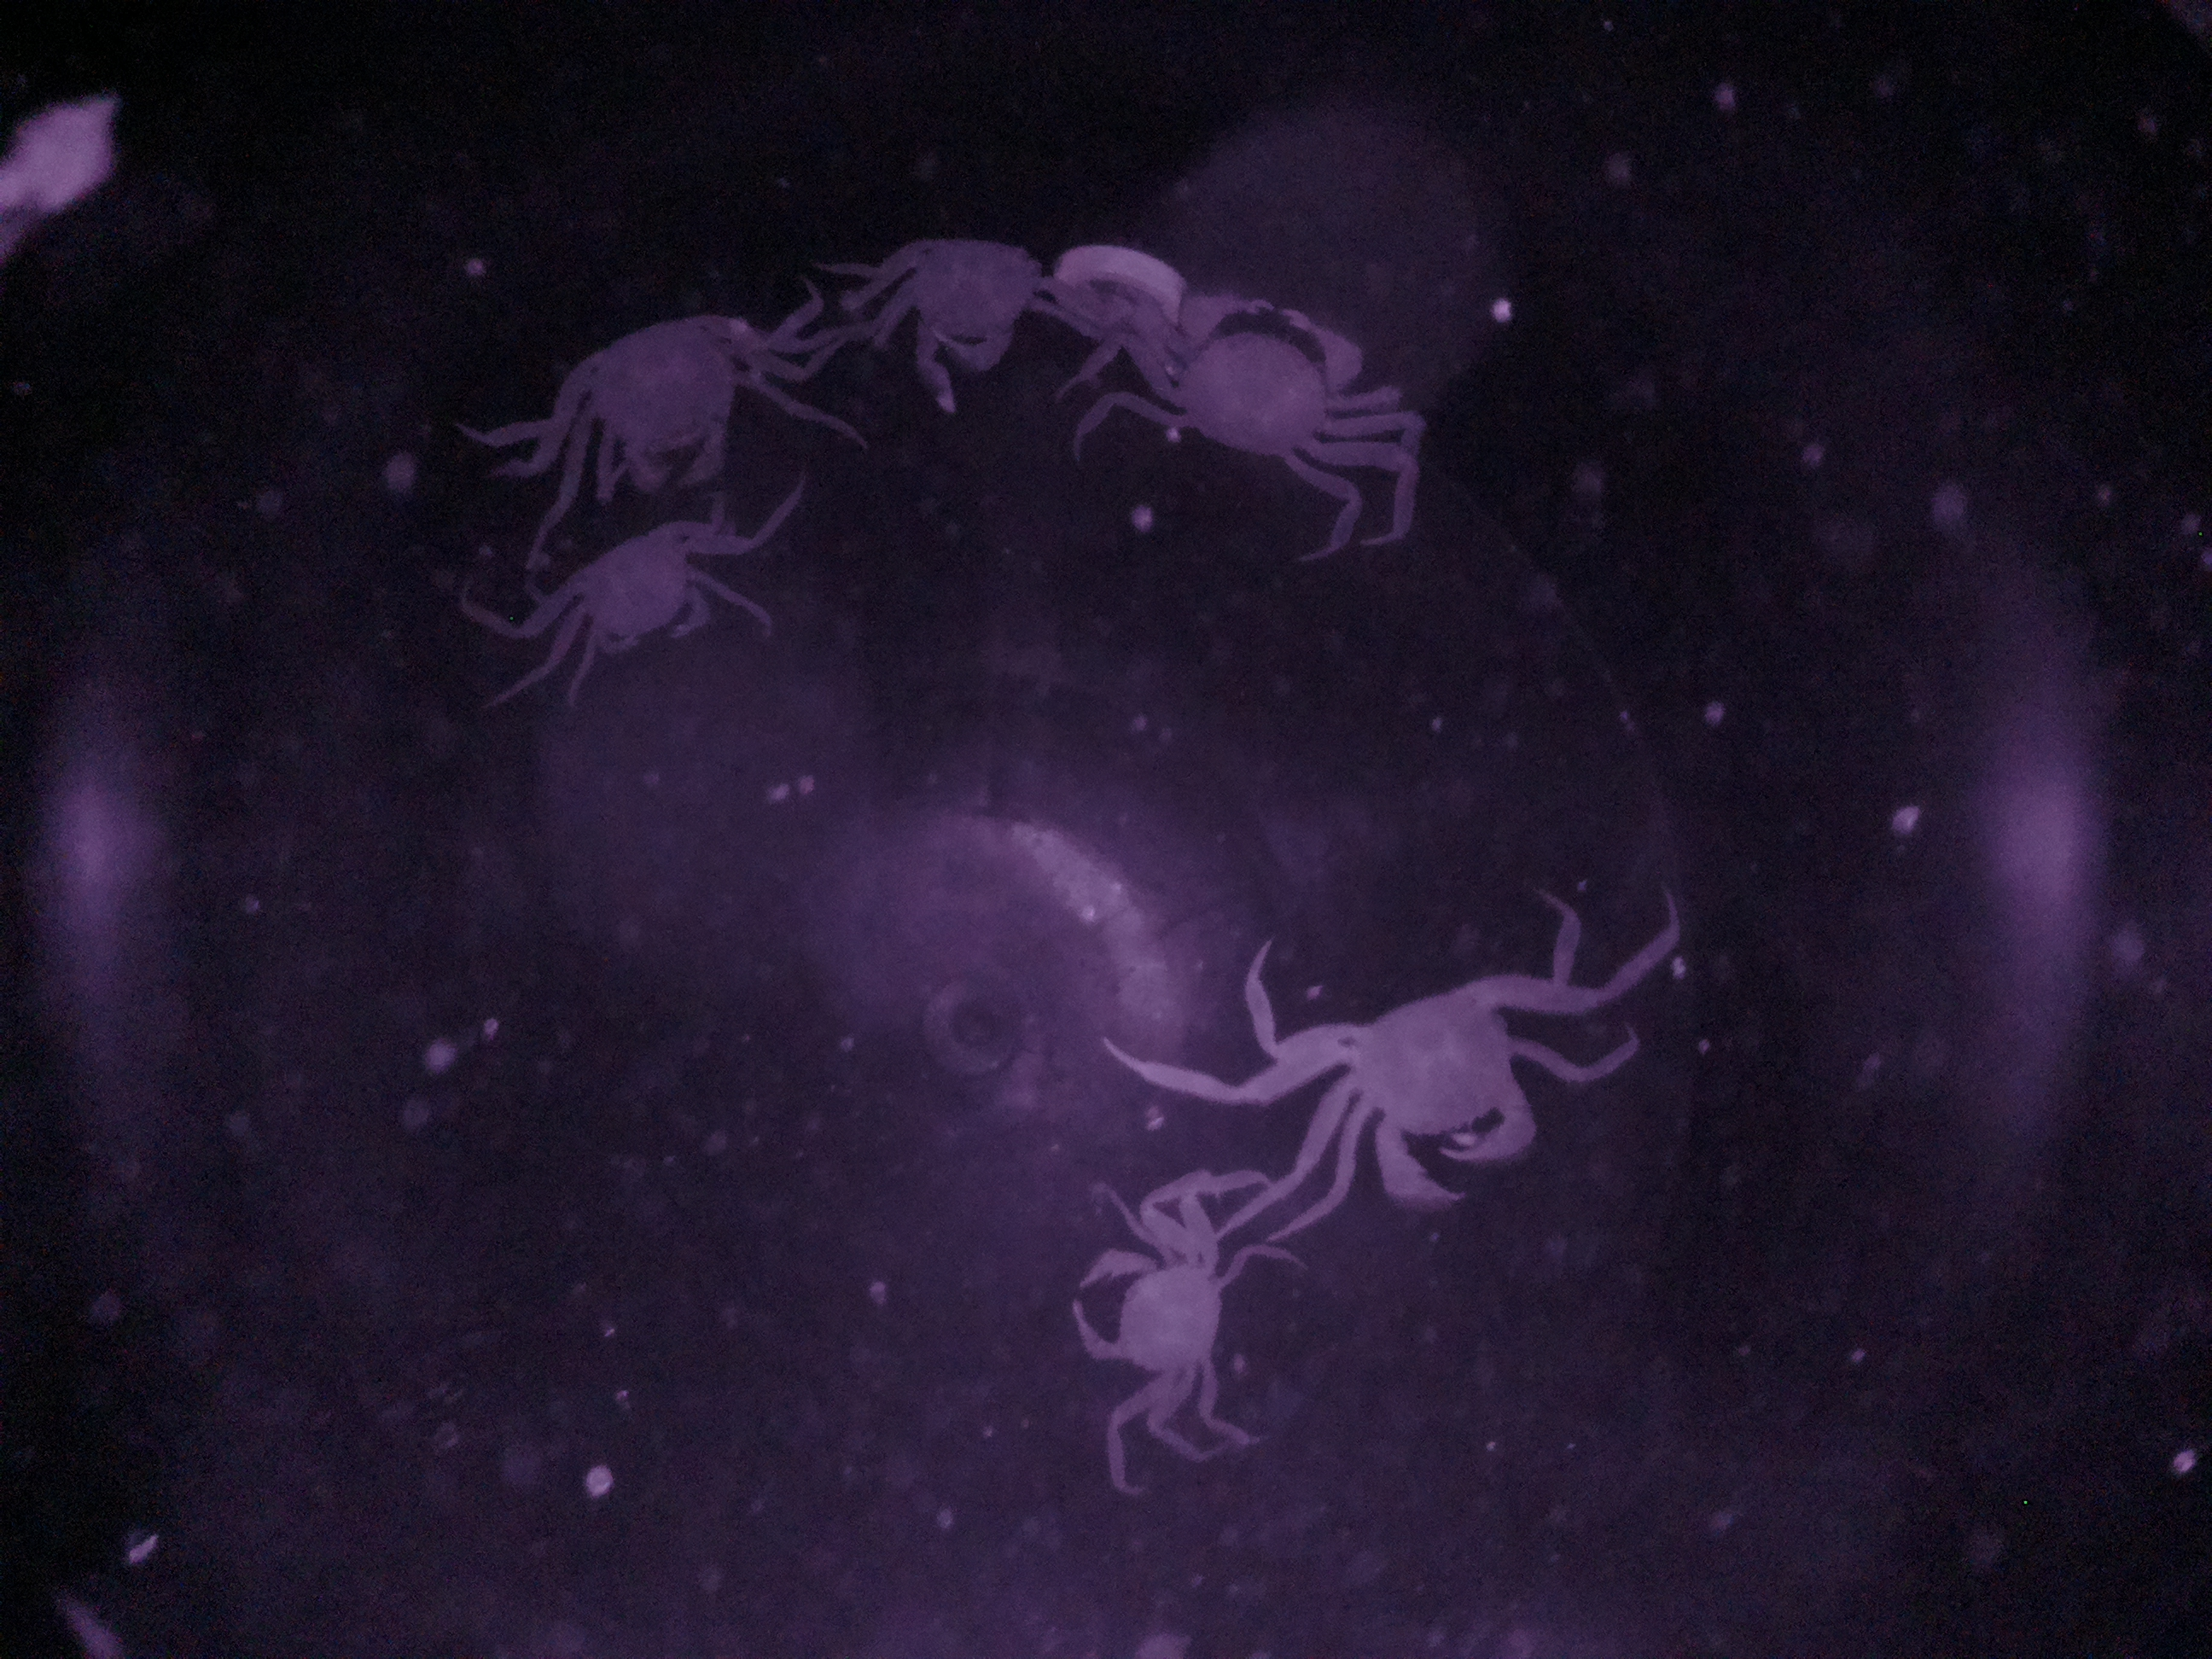Crab: (1245, 943, 1575, 1216), (1130, 272, 1404, 490), (1052, 1204, 1238, 1408), (531, 521, 751, 671)
